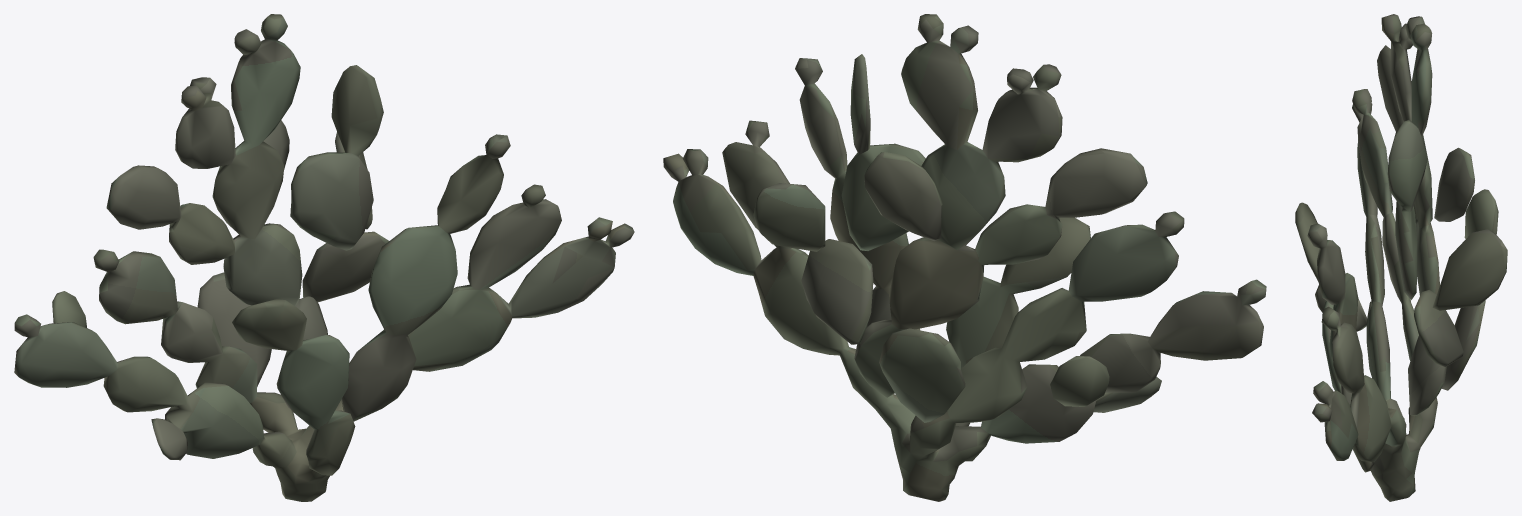
The model's file is prickly_pear.glb.
The picture shows the model from 3 angles, left to right: view 1: azimuth 30°, elevation 25°; view 2: azimuth 150°, elevation 25°; view 3: azimuth 270°, elevation 25°; orthographic projection. The views are drawn at different scales.
Parts seen in each view (by area): view 1: LO.001; view 2: LO.001; view 3: LO.001.
Part boxes in pixels (x1,y1,x2,y2): LO.001: [14, 14, 634, 501]; LO.001: [663, 14, 1266, 501]; LO.001: [1295, 14, 1507, 501].
Bounding box in the file's own units: 1.97 × 1.5 × 0.6245.
Materials: 1 (1 with a texture image).
